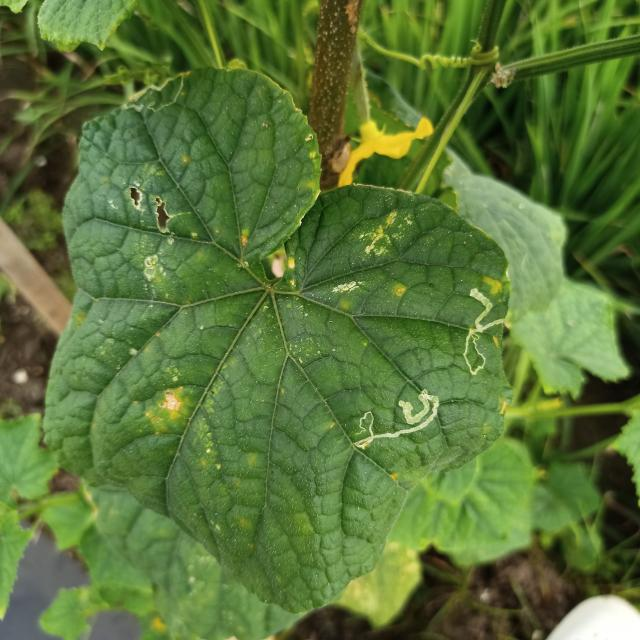disease_cucumber: (128, 177, 178, 284), (136, 378, 190, 437), (361, 210, 416, 261), (325, 274, 370, 306), (494, 390, 514, 422), (481, 274, 505, 300), (284, 258, 302, 290), (236, 226, 252, 256), (391, 280, 409, 304)
